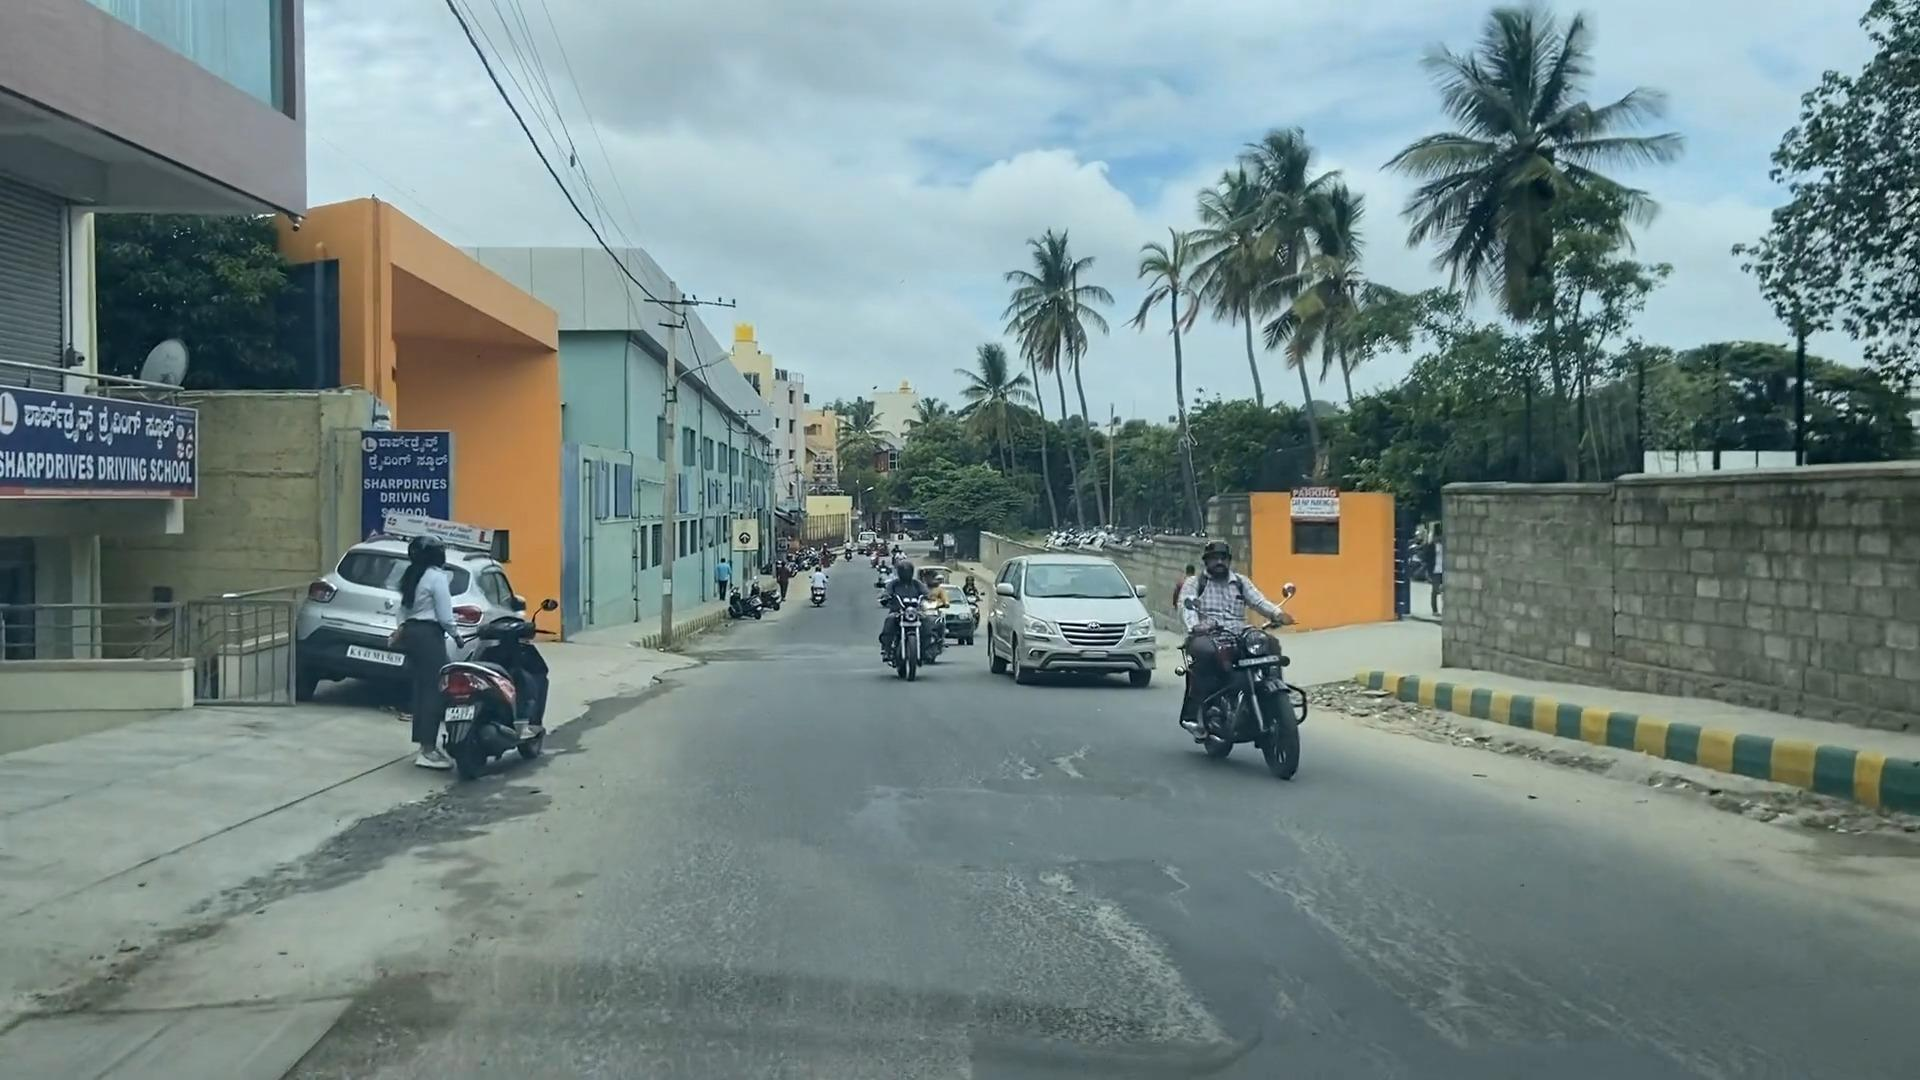RoadDamages: (978, 835, 1425, 1075)
